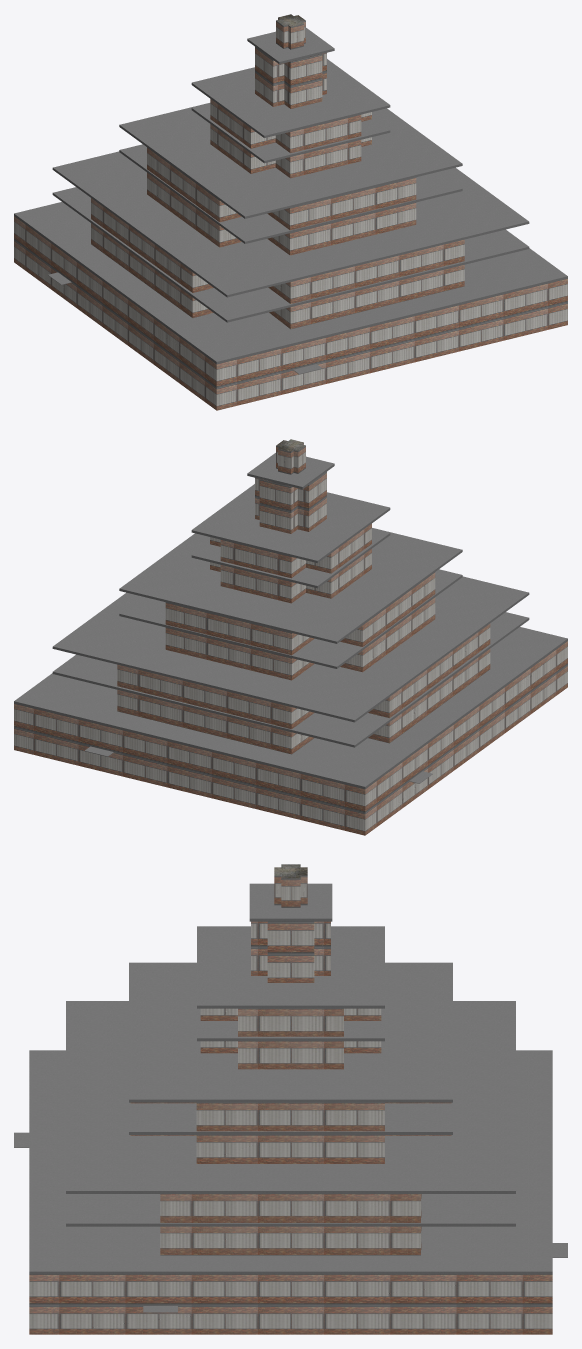
The model's file is LOD01_Building_11stores_Pyramid.obj.
3 renders of one model, top to bottom at view 1: azimuth 30°, elevation 25°; view 2: azimuth 150°, elevation 25°; view 3: azimuth 270°, elevation 25°, orthographic. The views are drawn at different scales.
Parts seen in each view (by area): view 1: LOD01_Building_11stores_Pyramid; view 2: LOD01_Building_11stores_Pyramid; view 3: LOD01_Building_11stores_Pyramid.
Part boxes in pixels (x1,y1,x2,y2): LOD01_Building_11stores_Pyramid: (14, 14, 567, 410); LOD01_Building_11stores_Pyramid: (14, 439, 567, 835); LOD01_Building_11stores_Pyramid: (14, 864, 567, 1334).
Bounding box in the file's own units: 16.73 × 11.75 × 16.73.
